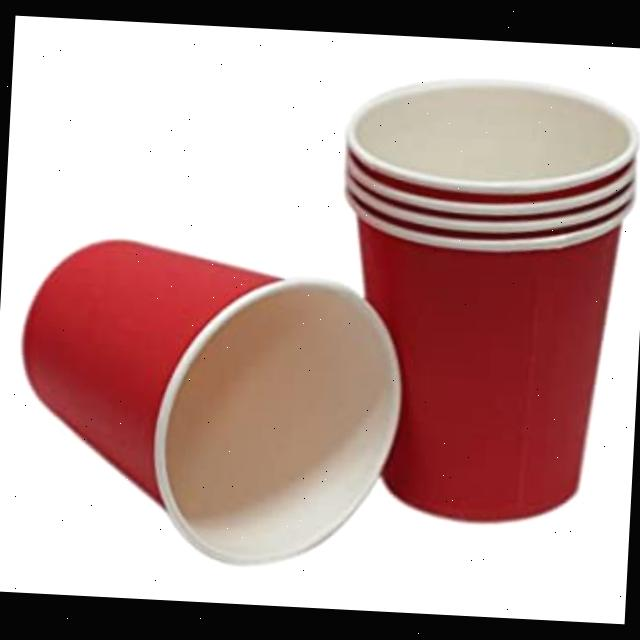trash: (12, 232, 409, 574)
